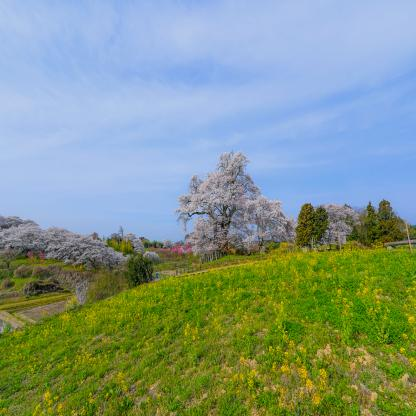EdohiganSakura: (174, 150, 298, 256)
